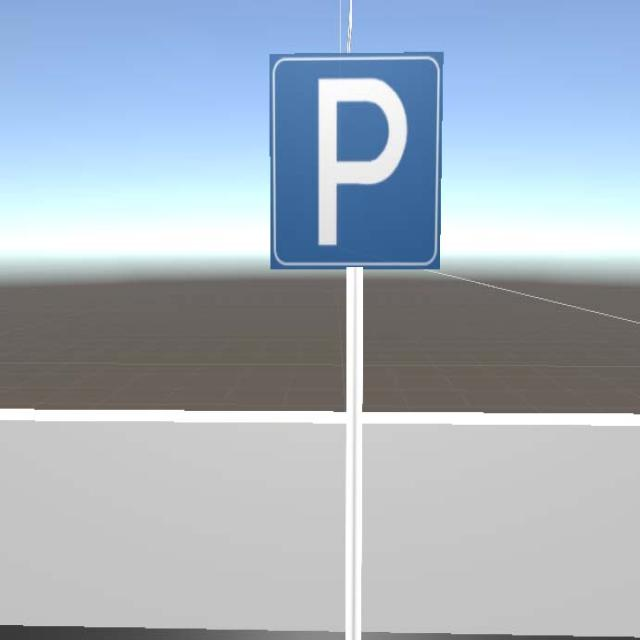park: (268, 53, 442, 268)
